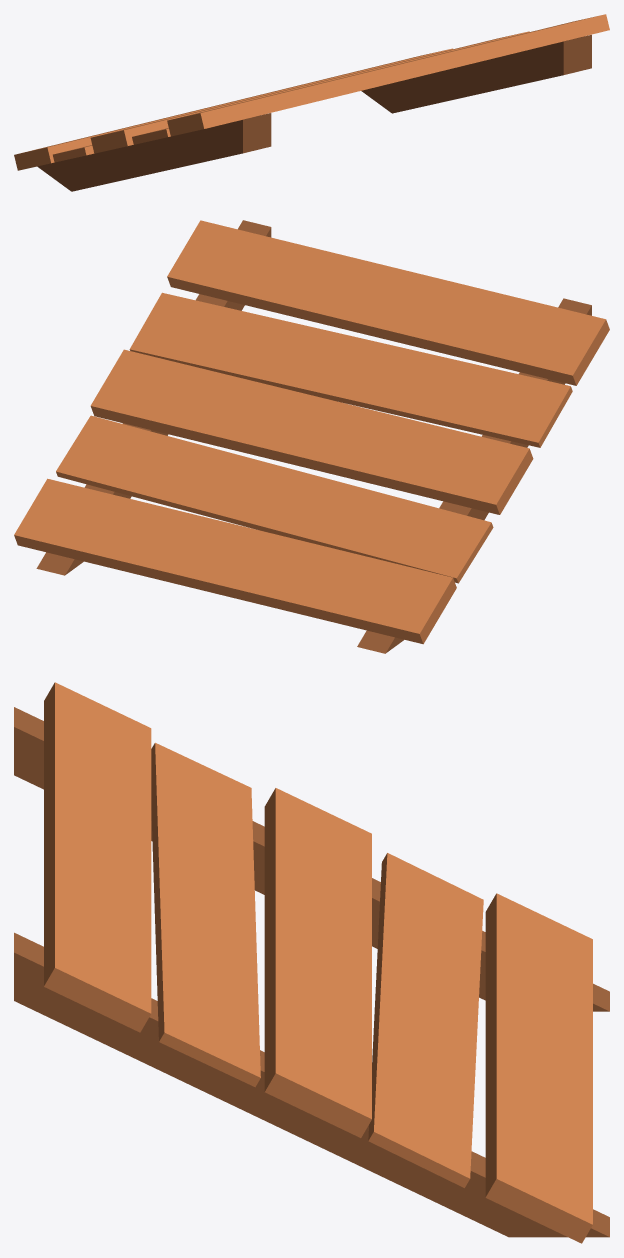
File: bridgeRamp.dae
3 views of the same model, one above another, from view 1: azimuth 30°, elevation 25°; view 2: azimuth 150°, elevation 25°; view 3: azimuth 270°, elevation 25° (orthographic). The views are drawn at different scales.
Parts seen in each view (by area): view 1: bridgeRamp; view 2: bridgeRamp; view 3: bridgeRamp.
Part boxes in pixels (box(x1,y1,x2,y2)): bridgeRamp: box(14, 14, 609, 191); bridgeRamp: box(14, 220, 609, 653); bridgeRamp: box(14, 682, 609, 1243).
Bounding box in the file's own units: 1 × 0.4726 × 0.882.
